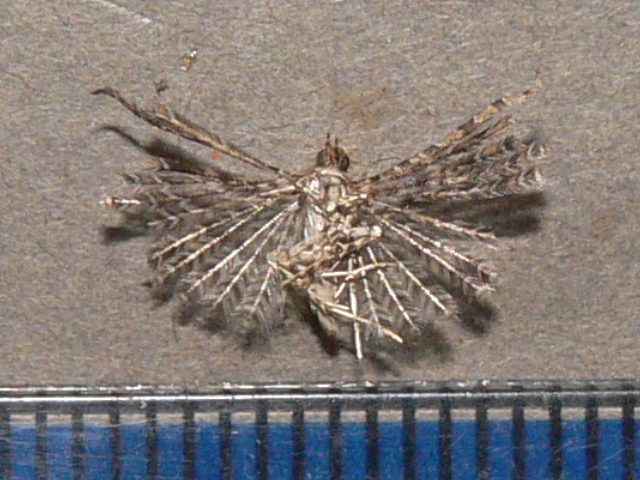Alucitidae: (83, 80, 543, 385)
moth: (81, 78, 541, 383)
